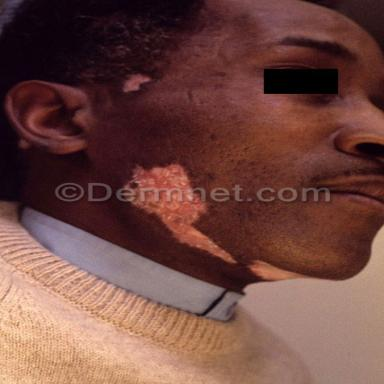Lupus-Erythematosus-Chronicus-Discoides: (126, 163, 236, 263), (133, 201, 236, 263), (247, 260, 306, 281), (121, 73, 152, 93)
